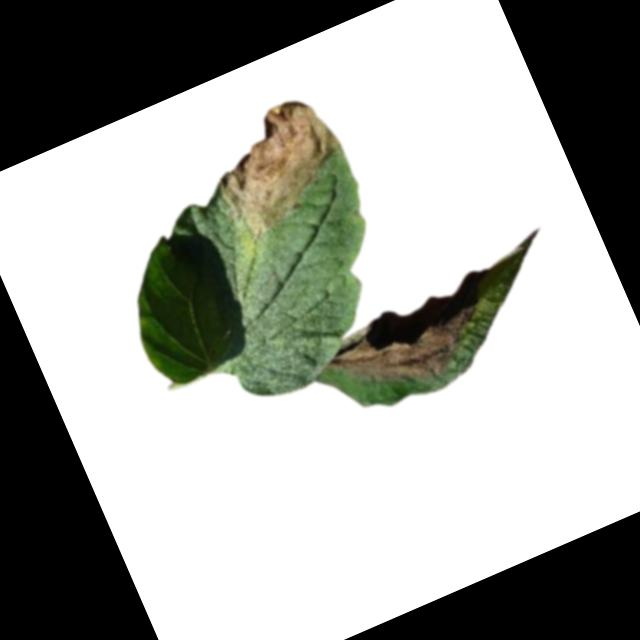Late_blight: (192, 86, 363, 248), (331, 292, 495, 412)
